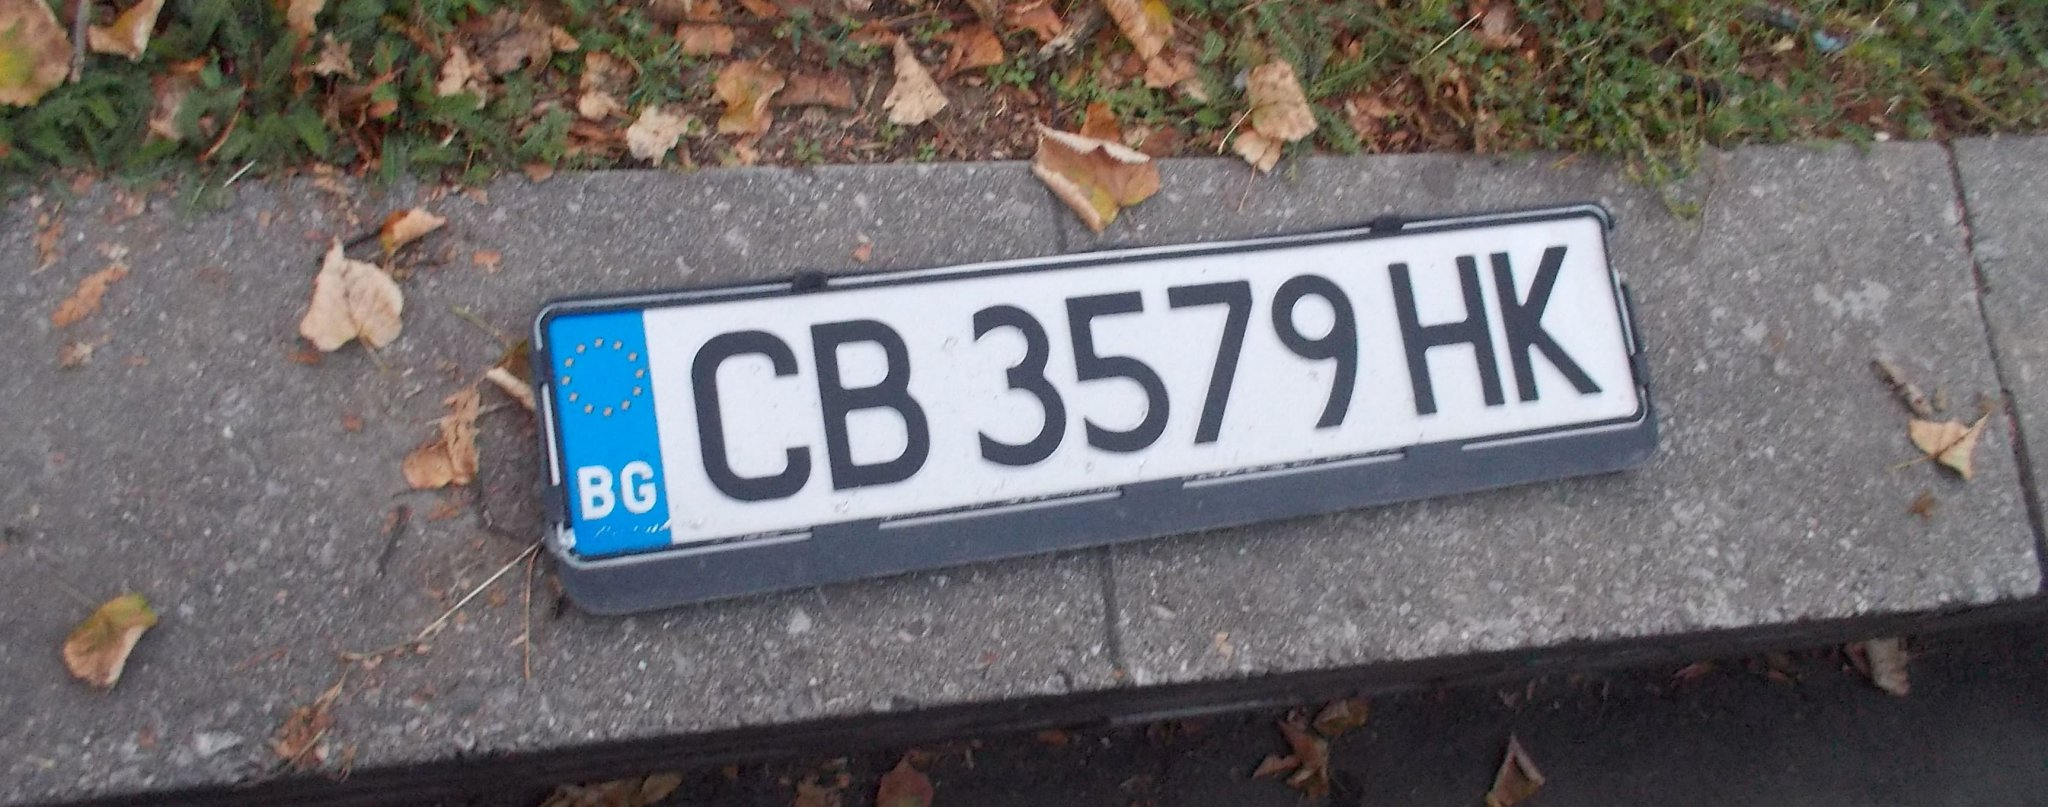registration_plate: (546, 207, 1639, 596)
